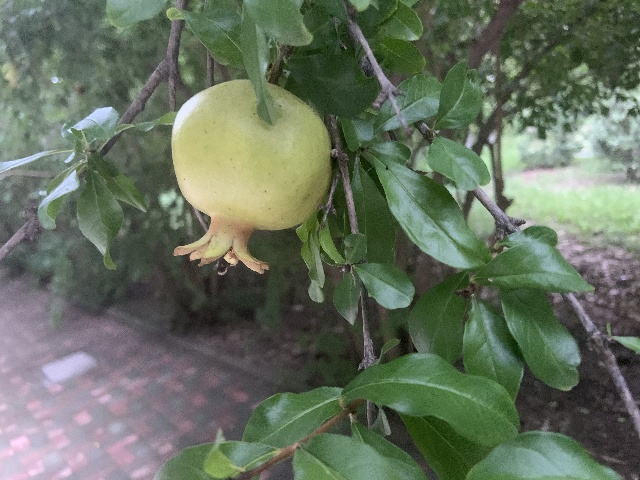mid-growth: (169, 79, 332, 273)
